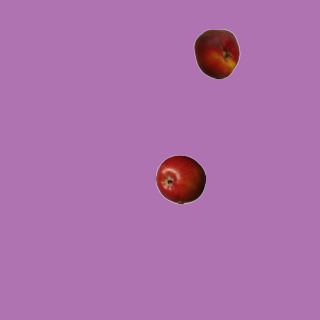Apple Braeburn: (155, 154, 205, 204)
Nectarine Flat: (191, 28, 241, 78)
